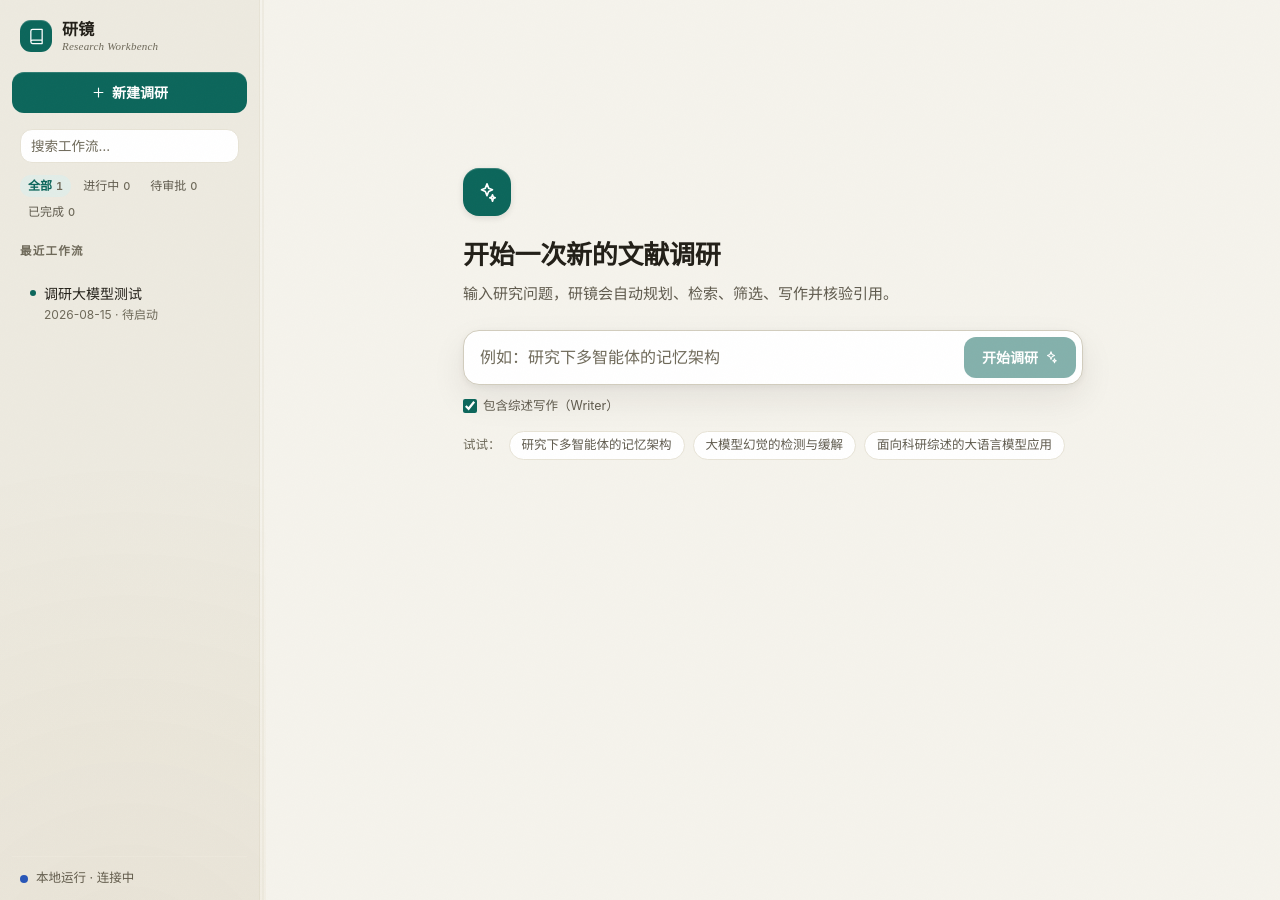
it: App workflow UI › shows modify and cancel actions with decision history when a step awaits approval
Click the text "调研大模型测试" at (101, 293), box [44,282,158,304]
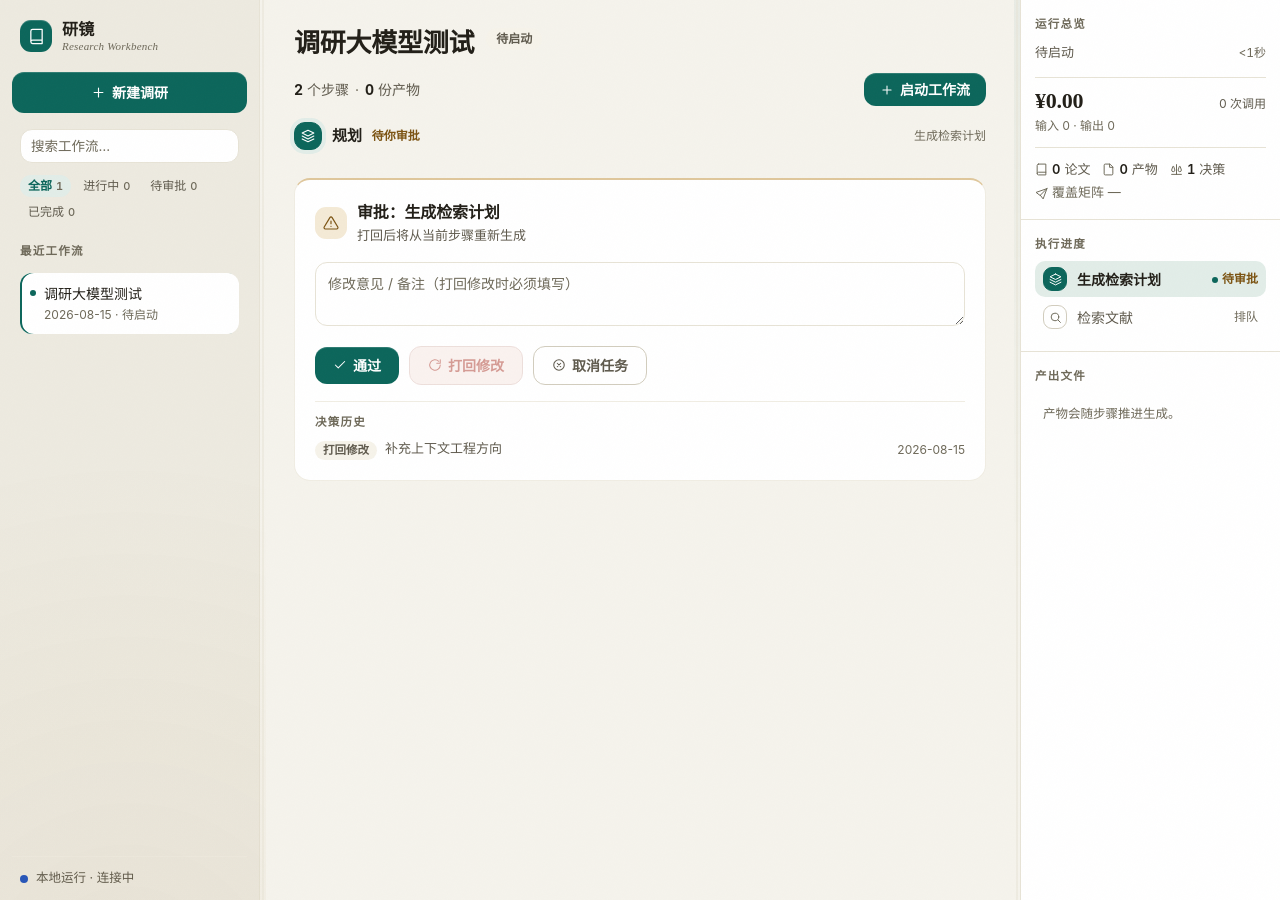
Check: the text "补充上下文工程方向" is shown, box [385,440,502,456]
Check: the button "打回修改" is shown, box [409,346,523,384]
Check: the button "取消任务" is shown, box [533,346,647,384]
